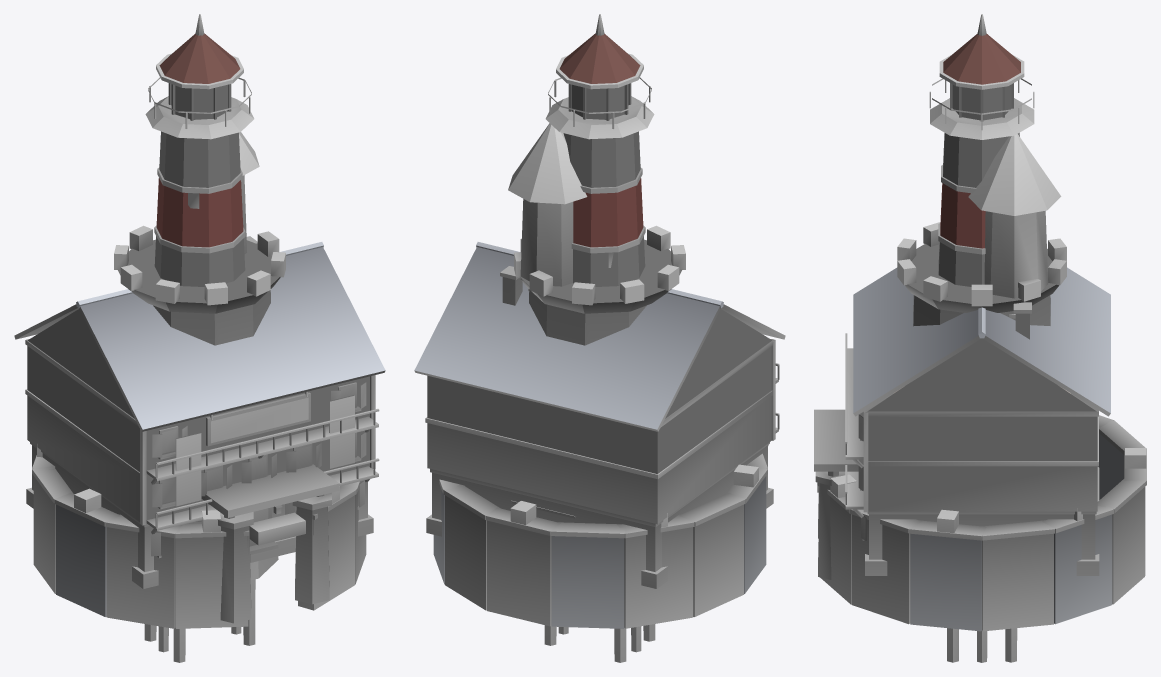
Rendered from town_shared_low.glb.
3 views of the same model, side by side, from view 1: azimuth 30°, elevation 25°; view 2: azimuth 150°, elevation 25°; view 3: azimuth 270°, elevation 25° (orthographic).
Parts seen in each view (by area): view 1: squadhall_LOD1, fort_LOD1, lighthouse_LOD1, pierHead_LOD1; view 2: squadhall_LOD1, fort_LOD1, lighthouse_LOD1, pierHead_LOD1; view 3: squadhall_LOD1, fort_LOD1, lighthouse_LOD1, pierHead_LOD1.
Part boxes in pixels (left/top/right/bottom): squadhall_LOD1: left=14, top=236, right=385, bottom=588; fort_LOD1: left=32, top=132, right=366, bottom=628; lighthouse_LOD1: left=145, top=14, right=254, bottom=286; pierHead_LOD1: left=144, top=579, right=255, bottom=662; squadhall_LOD1: left=414, top=242, right=785, bottom=588; fort_LOD1: left=433, top=123, right=767, bottom=628; lighthouse_LOD1: left=511, top=14, right=654, bottom=518; pierHead_LOD1: left=544, top=624, right=655, bottom=662; squadhall_LOD1: left=814, top=267, right=1110, bottom=575; fort_LOD1: left=815, top=134, right=1146, bottom=631; lighthouse_LOD1: left=929, top=14, right=1034, bottom=286; pierHead_LOD1: left=947, top=628, right=1017, bottom=662.
Bounding box in the file's own units: 20.92 × 42.9 × 20.6.
